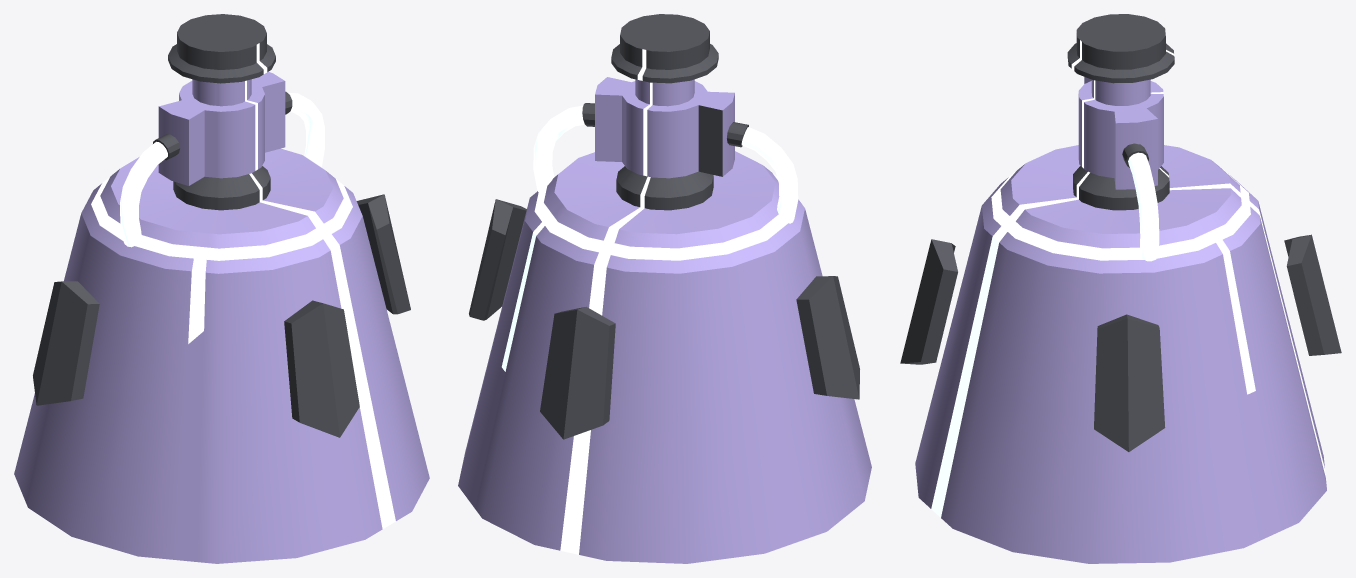
The model's file is delospodok.fbx.
3 renders of one model, left to right at view 1: azimuth 30°, elevation 25°; view 2: azimuth 150°, elevation 25°; view 3: azimuth 270°, elevation 25°, orthographic.
Parts seen in each view (by area): view 1: BezierCurve.001; view 2: BezierCurve.001; view 3: BezierCurve.001.
Boxes of the visible parts, left/top/right/bottom form: BezierCurve.001: left=14, top=14, right=429, bottom=563; BezierCurve.001: left=458, top=14, right=871, bottom=563; BezierCurve.001: left=900, top=14, right=1341, bottom=563.
Size of the model in its own units: 313 by 347 by 313.
